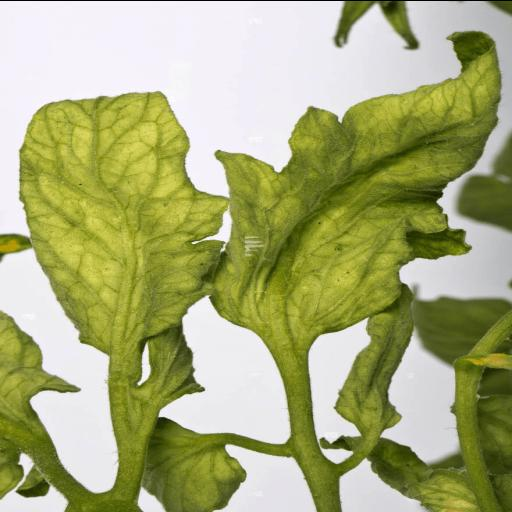Mosaic Virus: (210, 28, 504, 340), (12, 90, 232, 346)
